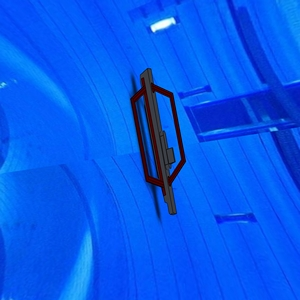submarine: (125, 66, 196, 218)
